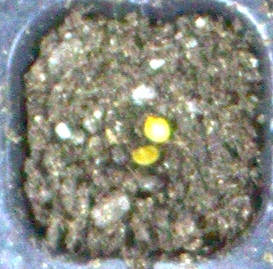pepper seed: (49, 61, 210, 228), (57, 43, 229, 186)
